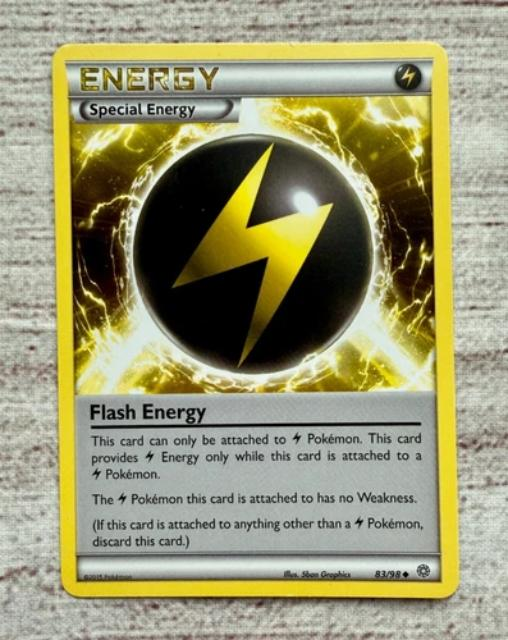Card: (51, 33, 465, 607)
Name: (88, 397, 208, 427)
